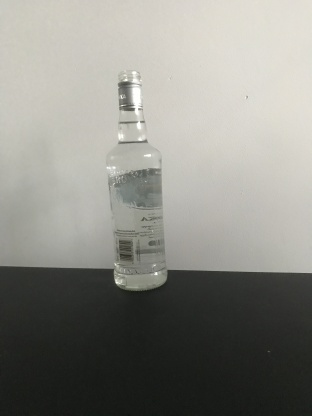nakretka: (116, 68, 144, 111)
